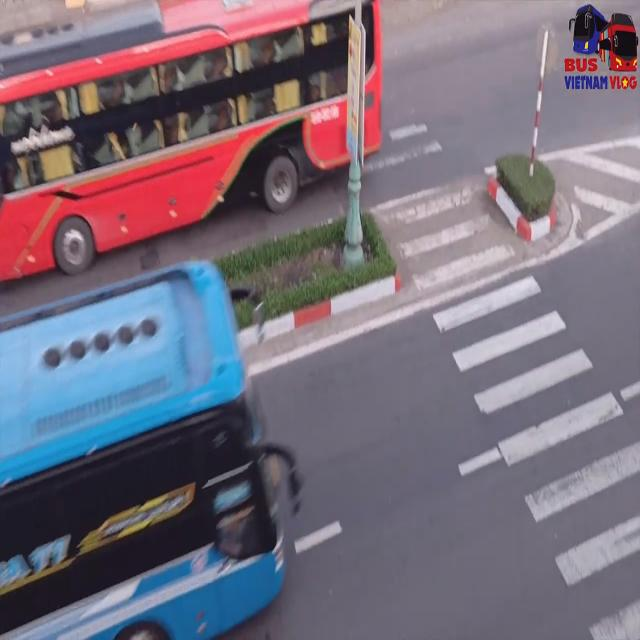bus: (0, 0, 380, 268), (0, 274, 273, 640)
